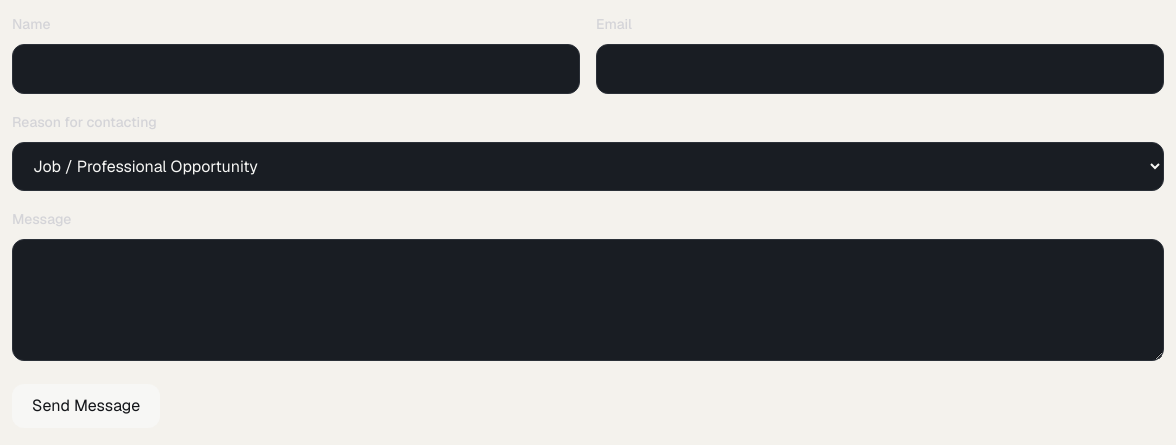
Scenario: ContactForm › shows the direct-email fallback when the request fails
In the field labelled "Name": [296, 69] box [12,44,580,94], type "Mohammad Shahil Khan"
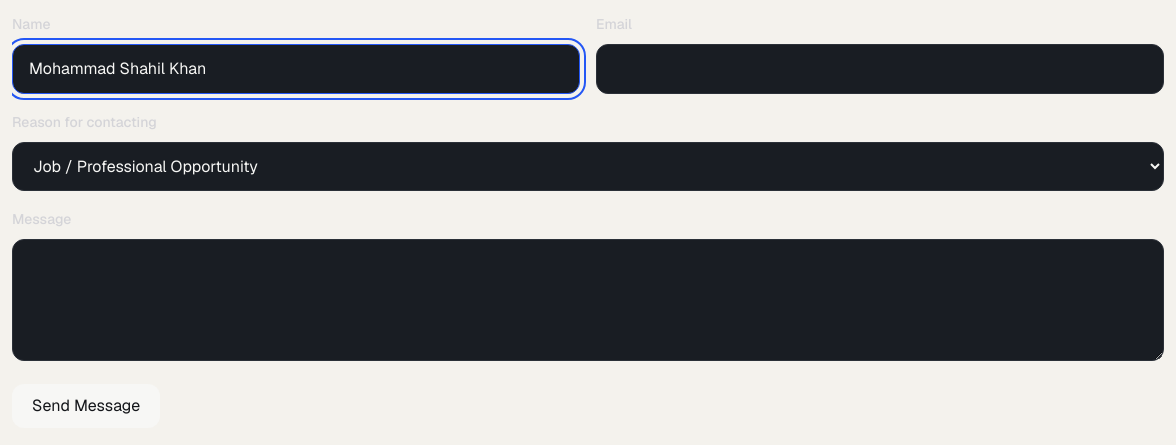
In the field labelled "Email": [880, 69] box [596,44,1164,94], type "shahil@example.com"
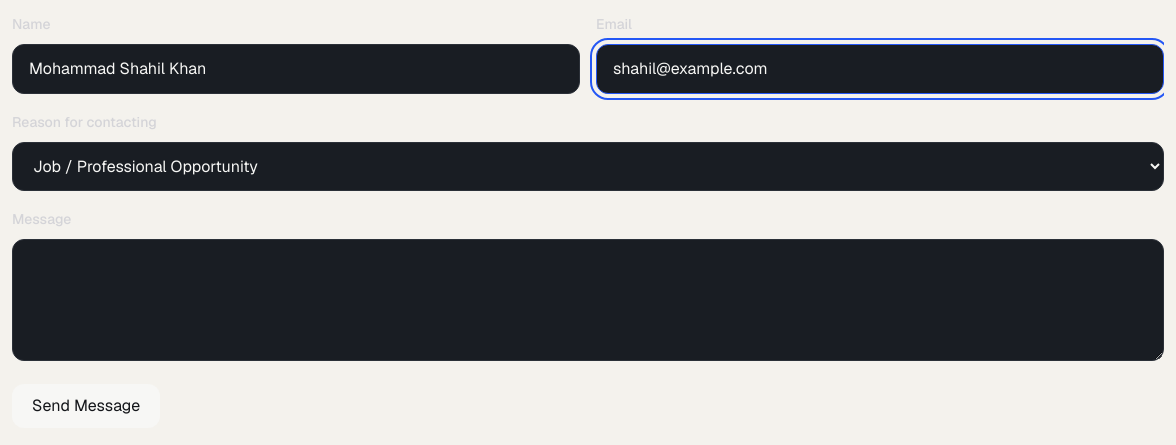
Select "Job / Professional Opportunity" in the dropdown labelled "Reason for contacting": [588, 166] box [12,142,1164,191]
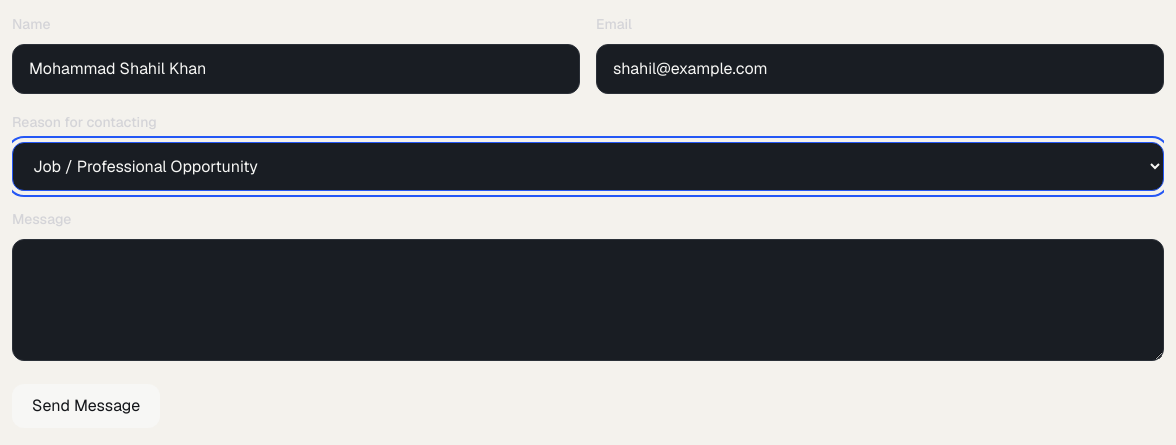
In the text box labelled "Message": [588, 300] box [12,239,1164,361], type "I would like to discuss a software engineering opportunity."
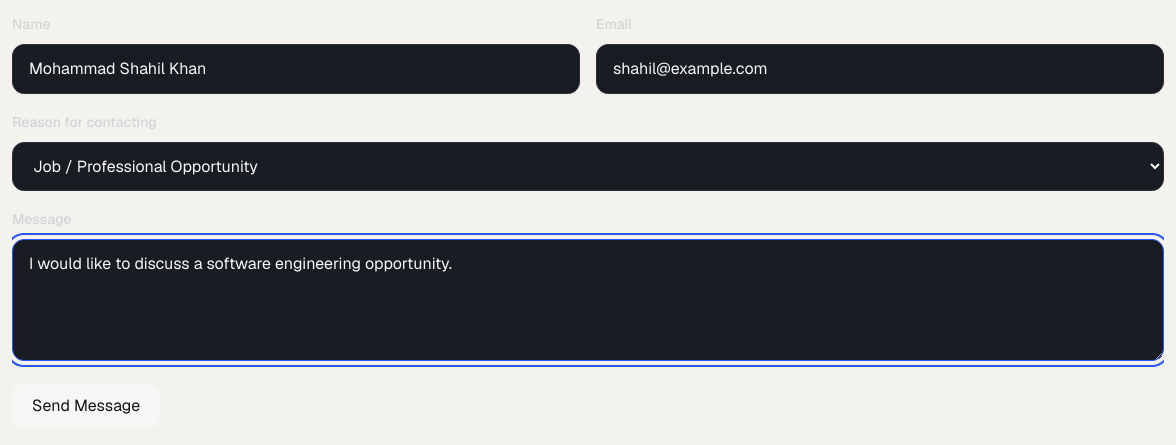
Click the button "Send Message": [86, 406] box [12,384,160,428]
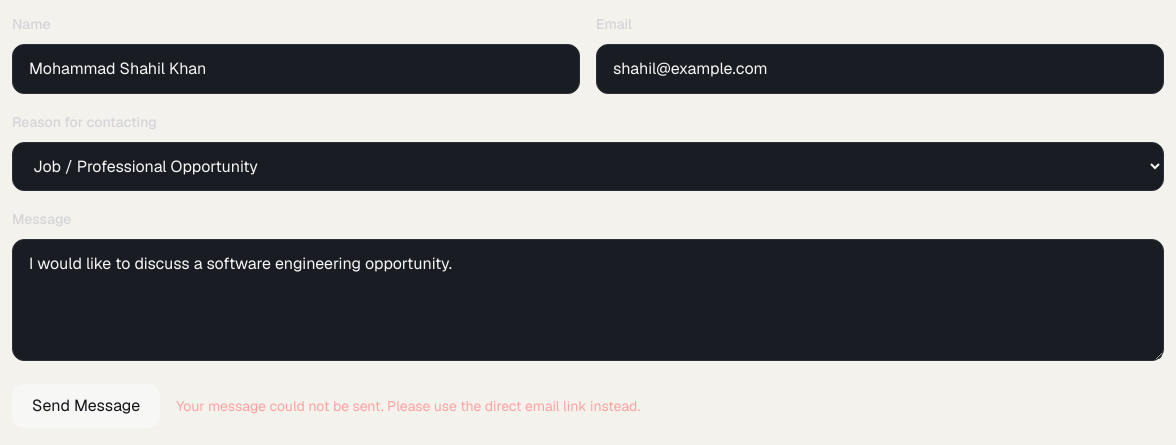
Expected: the text "Your message could not be sent. Please use the direct email link instead." is shown, [176,396,640,416]
